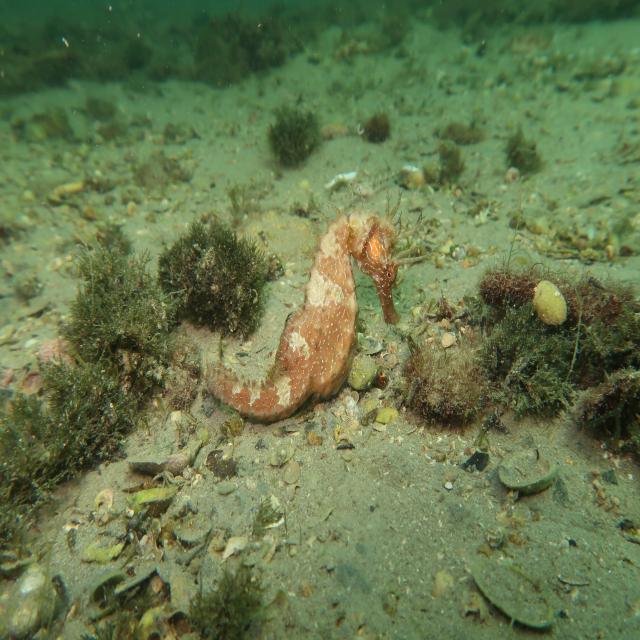Guttu: (356, 202, 406, 333)
